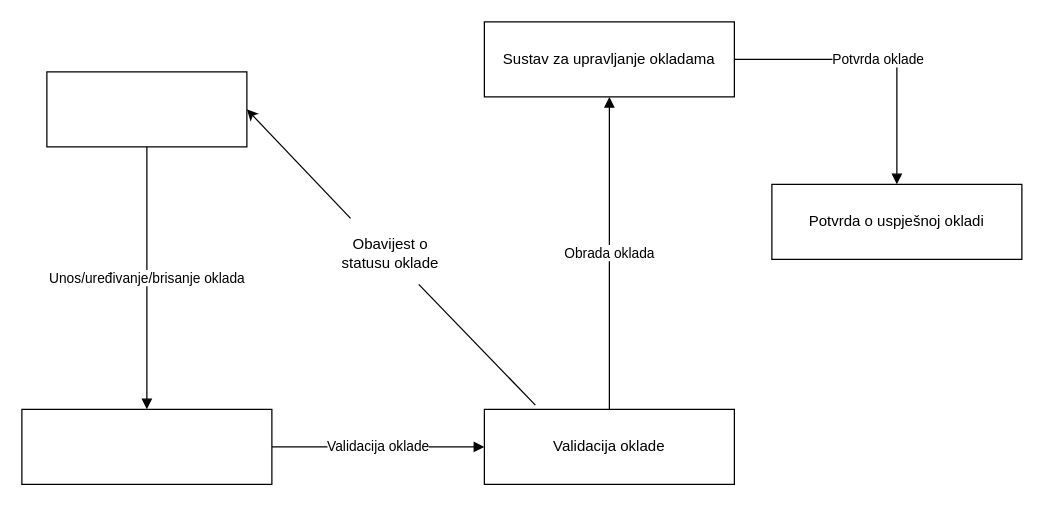
Some shapes in this 1044 by 506 pixel diagram are drawn without their labels. Here are the shapes that lost their labels. From the top down, the centre of each, then its label:
point 146,109: Igrač
point 146,446: Upravljanje okladom
